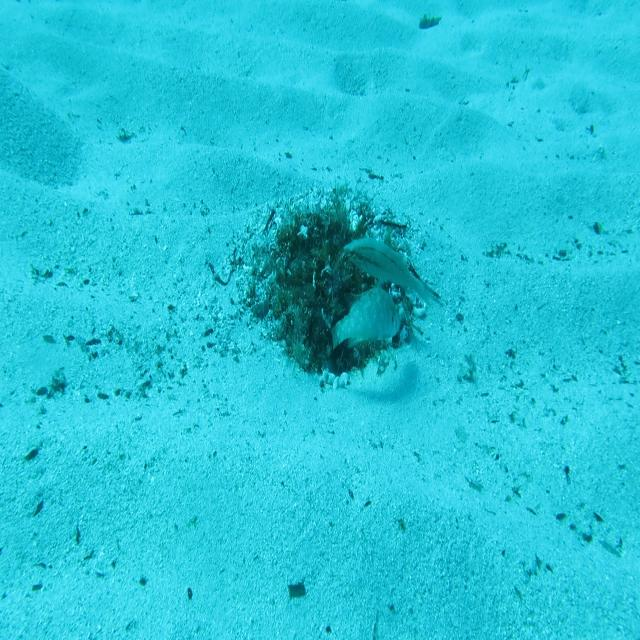DAN_CIRC: (328, 273, 399, 356)
core_nest: (305, 220, 349, 268)
female: (342, 236, 436, 311)
nest: (226, 181, 436, 408)
vegetation: (420, 11, 440, 32), (288, 580, 309, 598)
